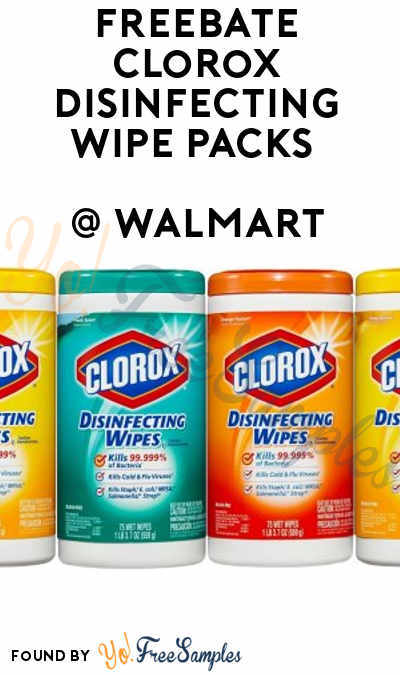Wipes: (56, 267, 208, 572), (207, 266, 357, 571), (1, 266, 58, 569), (355, 266, 400, 568)
